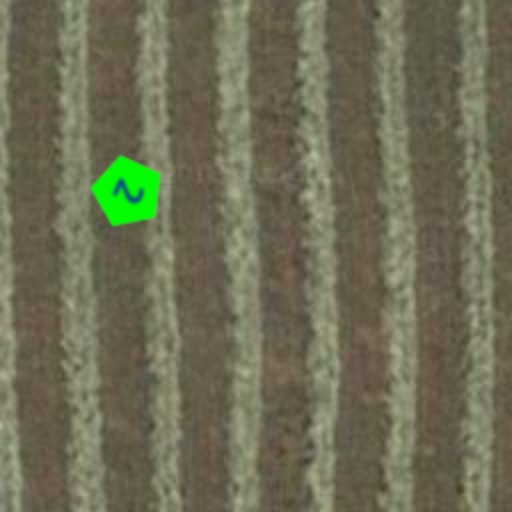pentagon: (76, 140, 180, 244)
